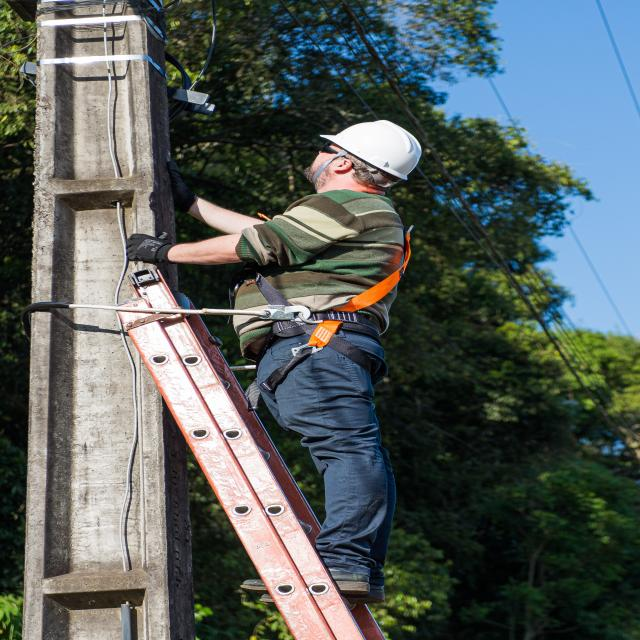capacete: (316, 119, 422, 181)
luva: (124, 228, 182, 266)
